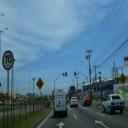NoVirarEsquerda: (62, 72, 65, 77)
NoVirarU: (52, 90, 54, 96)
speed_limit_70: (2, 50, 14, 70)
